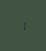one: (19, 19, 24, 31)
